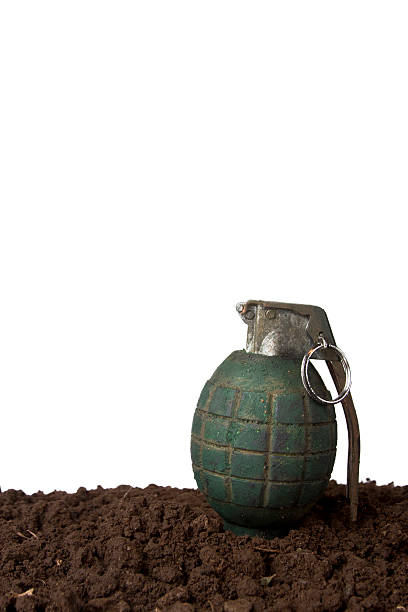e1: (188, 299, 361, 531)
